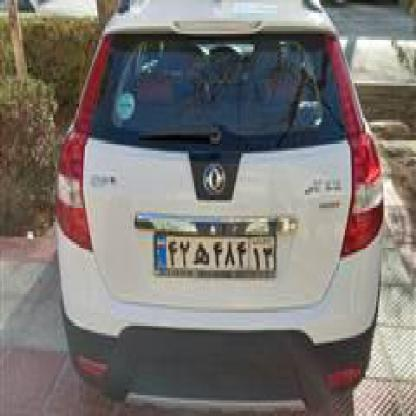car: (59, 0, 366, 395)
